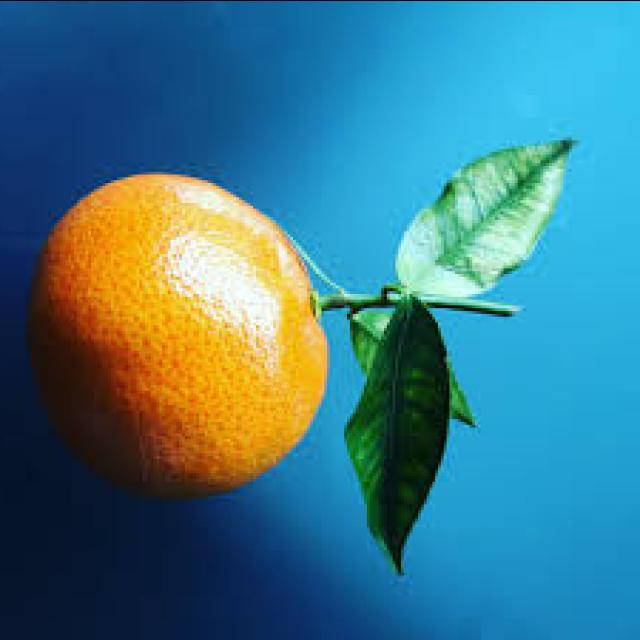orange: (36, 121, 336, 492)
